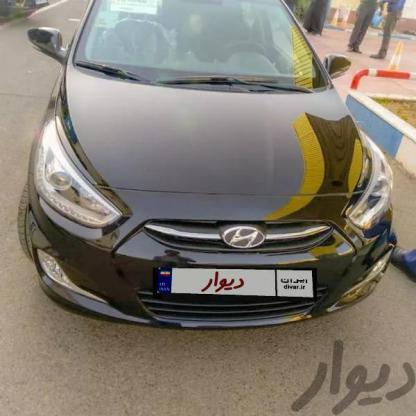Car: (0, 0, 406, 344)
